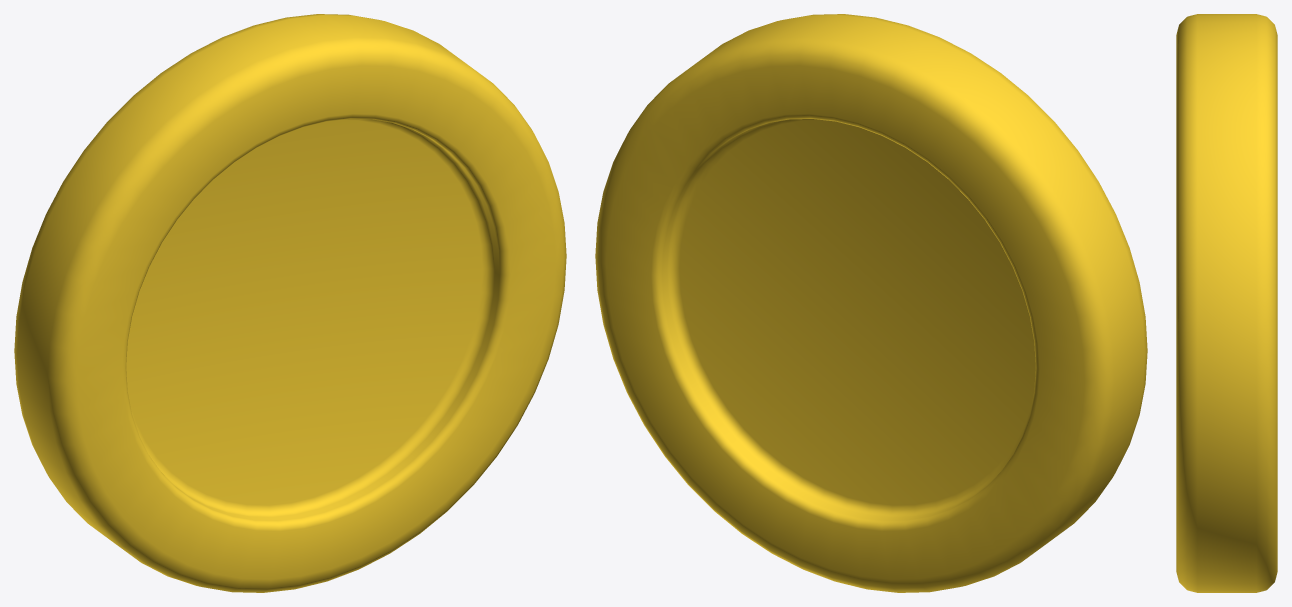
File: Coin.fbx
The picture shows the model from 3 angles, left to right: view 1: azimuth 30°, elevation 25°; view 2: azimuth 150°, elevation 25°; view 3: azimuth 270°, elevation 25°; orthographic projection. The views are drawn at different scales.
Visible parts, largest first — view 1: Coin; view 2: Coin; view 3: Coin.
Boxes of the visible parts, box(x1,y1,x2,y2) form: Coin: box(14, 14, 566, 592); Coin: box(595, 14, 1147, 592); Coin: box(1176, 14, 1277, 592).
Size of the model in its own units: 547 by 546 by 95.73.
